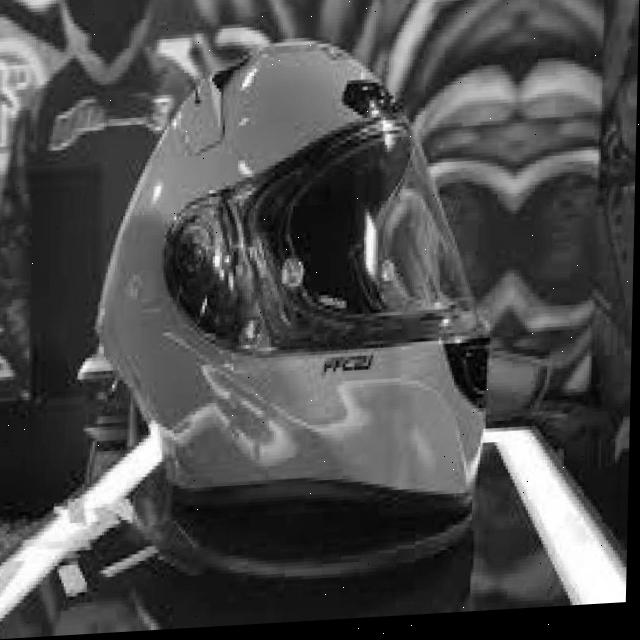Helmet: (100, 28, 512, 539)
